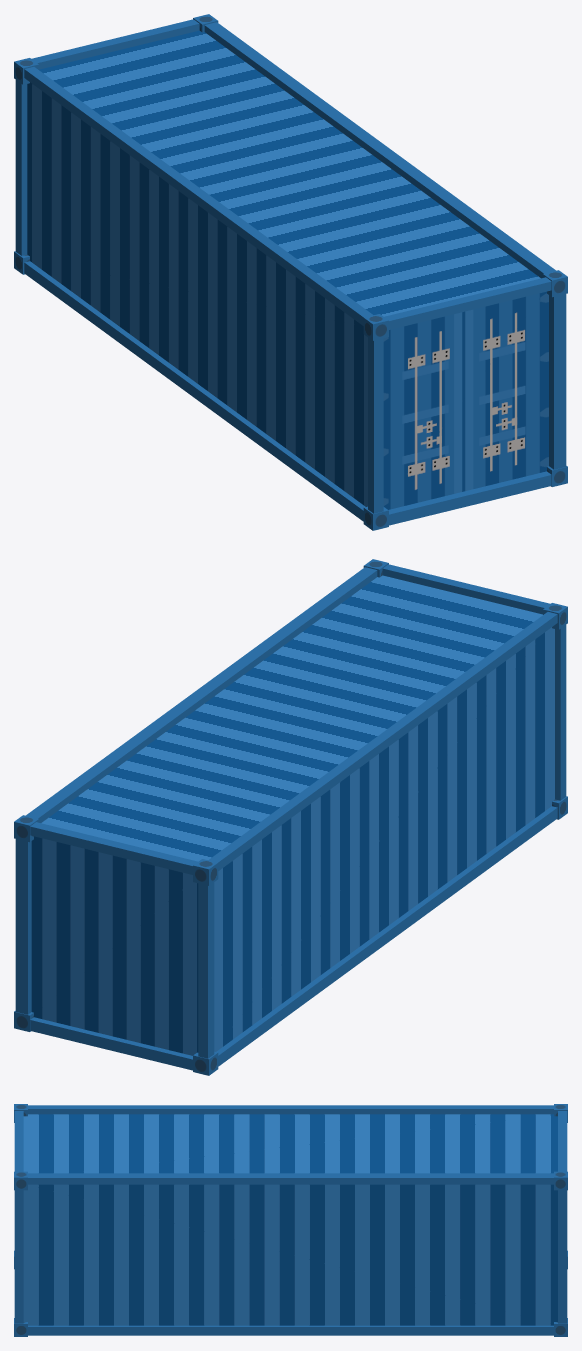
Rendered from Container.fbx.
The picture shows the model from 3 angles, top to bottom: view 1: azimuth 30°, elevation 25°; view 2: azimuth 150°, elevation 25°; view 3: azimuth 270°, elevation 25°; orthographic projection. The views are drawn at different scales.
Parts seen in each view (by area): view 1: Container; view 2: Container; view 3: Container.
Boxes of the visible parts, x1,y1,x2,y2 form: Container: [14, 14, 567, 530]; Container: [14, 559, 567, 1075]; Container: [14, 1104, 567, 1336].
Size of the model in its own units: 205 by 207 by 653.
